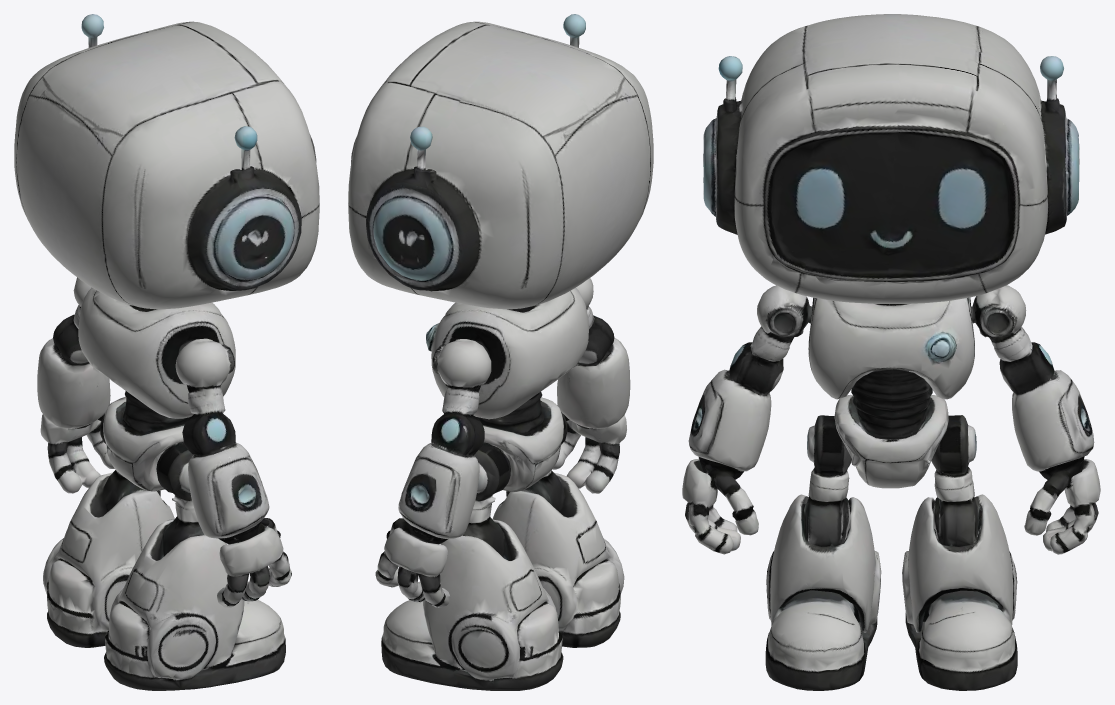
File: genesis_mascot_optimized.glb
3 views of the same model, side by side, from view 1: azimuth 30°, elevation 25°; view 2: azimuth 150°, elevation 25°; view 3: azimuth 270°, elevation 25° (orthographic). The views are drawn at different scales.
Parts seen in each view (by area): view 1: tripo_node_dc3b5e29-50e9-40c6-b1e0-db1d6409a426; view 2: tripo_node_dc3b5e29-50e9-40c6-b1e0-db1d6409a426; view 3: tripo_node_dc3b5e29-50e9-40c6-b1e0-db1d6409a426.
Boxes of the visible parts, x1=… form: tripo_node_dc3b5e29-50e9-40c6-b1e0-db1d6409a426: x1=14, y1=14, x2=319, y2=690; tripo_node_dc3b5e29-50e9-40c6-b1e0-db1d6409a426: x1=348, y1=14, x2=653, y2=690; tripo_node_dc3b5e29-50e9-40c6-b1e0-db1d6409a426: x1=682, y1=14, x2=1100, y2=690.
Bounding box in the file's own units: 0.3694 × 0.9999 × 0.6157.
1 material, 1 textured.
